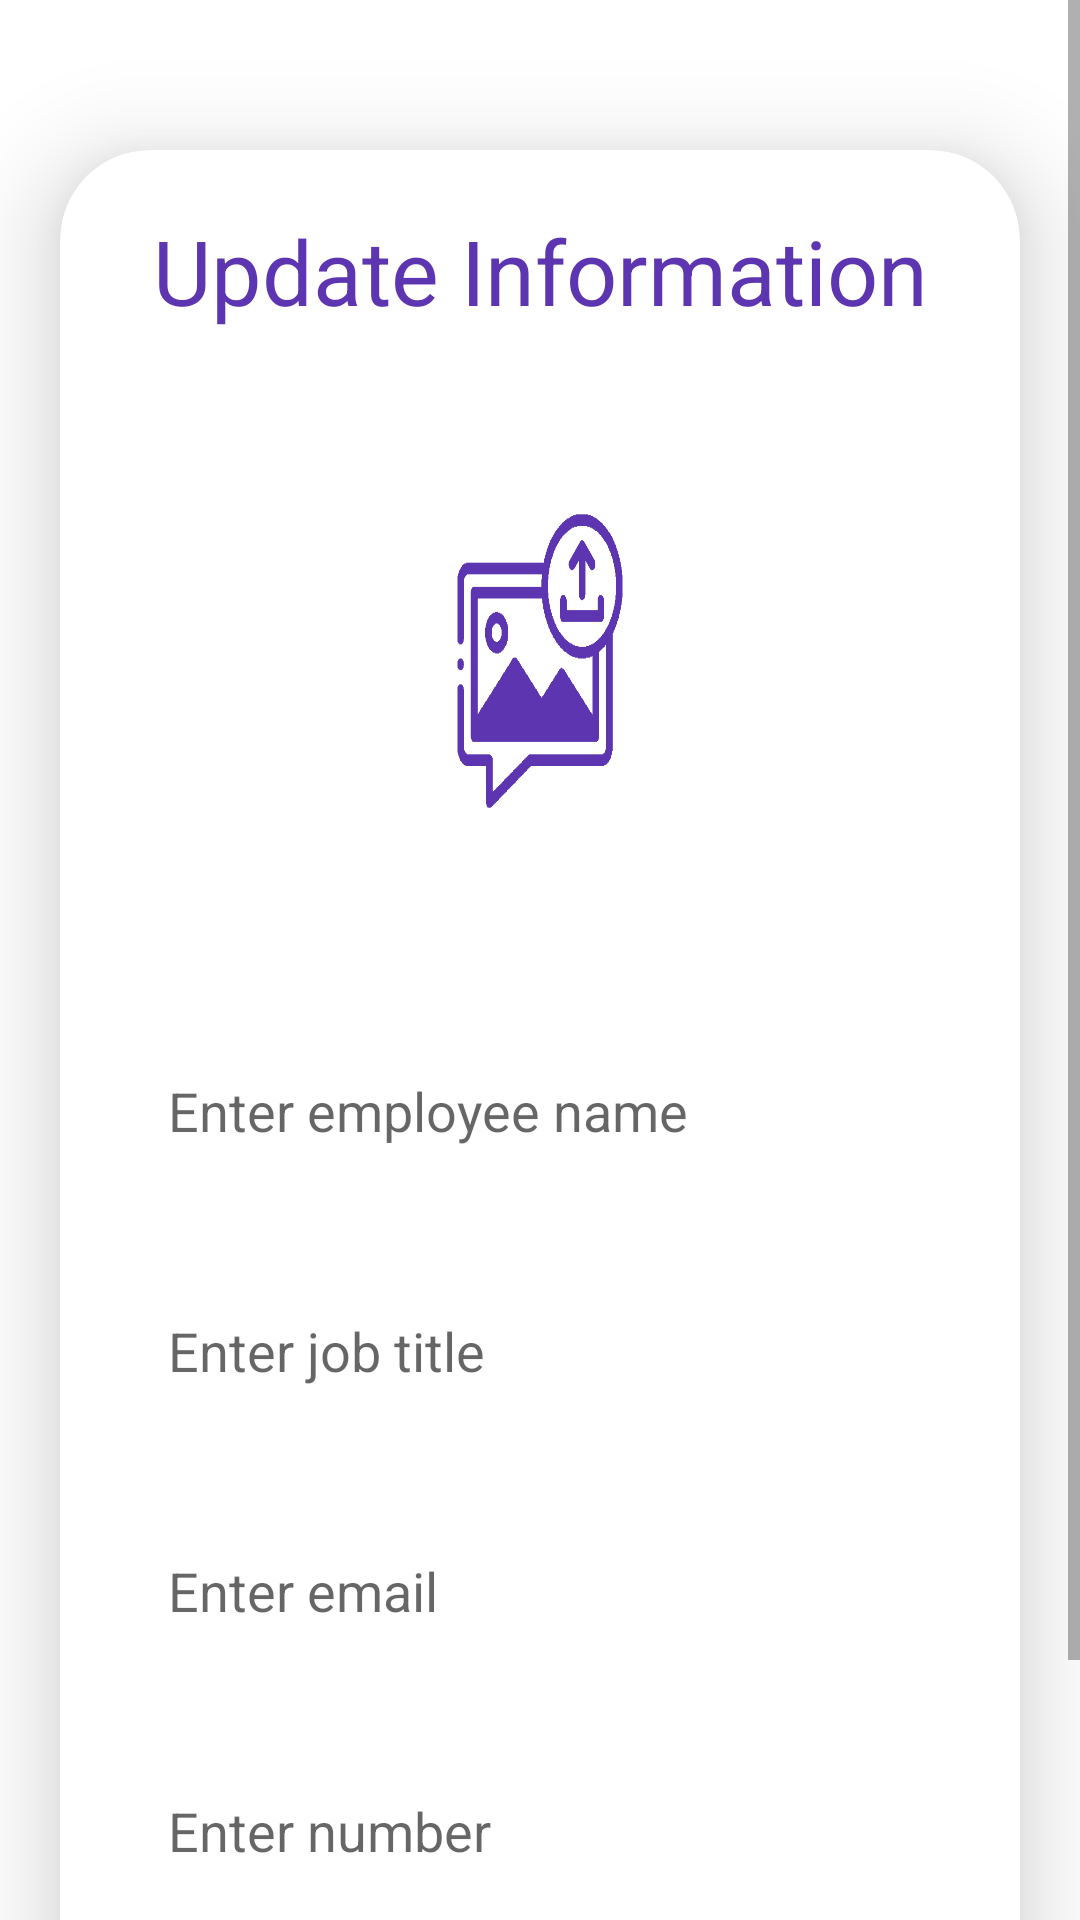

Icon bounding boxes for this 1080*1920 phone screenshot, format rect(x1, y1, x2, y2):
uploadimg: rect(457, 514, 623, 808)
